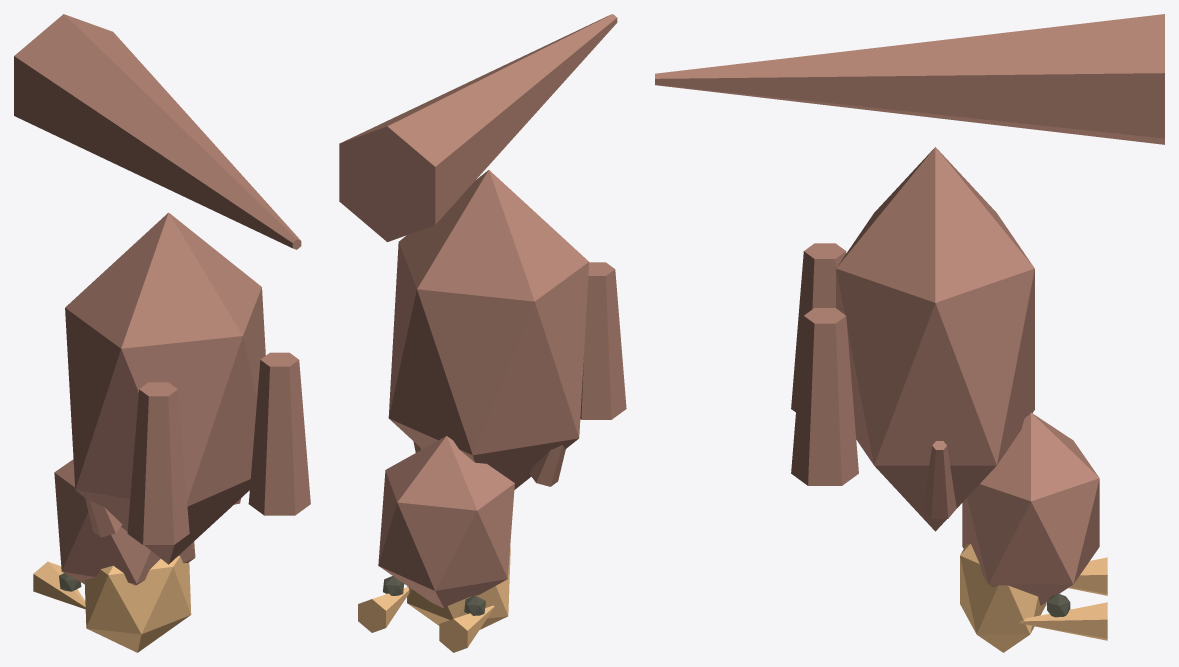
File: carnotaurus.glb
3 views of the same model, side by side, from view 1: azimuth 30°, elevation 25°; view 2: azimuth 150°, elevation 25°; view 3: azimuth 270°, elevation 25° (orthographic). The views are drawn at different scales.
Visible parts, largest first — view 1: Body, Tail, Leg.001, Leg, Snout, Head, Horn, Arm; view 2: Body, Tail, Head, Leg, Snout, Horn, Horn.001, Arm; view 3: Body, Tail, Head, Leg.001, Snout, Leg, Arm.001, Horn.001, Horn.
Part boxes in pixels (<box>): Body: <box>65,212,265,564</box>; Tail: <box>14,14,301,249</box>; Leg.001: <box>248,352,310,515</box>; Leg: <box>127,382,189,544</box>; Snout: <box>84,556,191,652</box>; Head: <box>54,459,195,585</box>; Horn: <box>33,561,85,609</box>; Arm: <box>85,498,122,537</box>; Body: <box>388,170,589,489</box>; Tail: <box>339,14,617,241</box>; Head: <box>378,436,514,608</box>; Leg: <box>580,262,626,419</box>; Snout: <box>407,547,510,629</box>; Horn: <box>439,605,494,652</box>; Horn.001: <box>358,587,409,632</box>; Arm: <box>529,445,565,486</box>; Body: <box>836,147,1034,531</box>; Tail: <box>655,14,1164,144</box>; Head: <box>962,412,1099,605</box>; Leg.001: <box>791,308,858,485</box>; Snout: <box>960,543,1046,652</box>; Leg: <box>791,243,846,412</box>; Arm.001: <box>922,441,956,518</box>; Horn.001: <box>1018,602,1107,640</box>; Horn: <box>1068,557,1107,595</box>.
Bounding box in the file's own units: 1.28 × 3.82 × 2.76.
